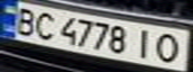4: (54, 15, 78, 46)
7: (90, 20, 112, 52), (72, 18, 93, 48)
8: (109, 22, 130, 55)
B: (9, 4, 42, 36)
C: (30, 9, 60, 40)
I: (130, 27, 160, 60)
O: (151, 30, 187, 64)
